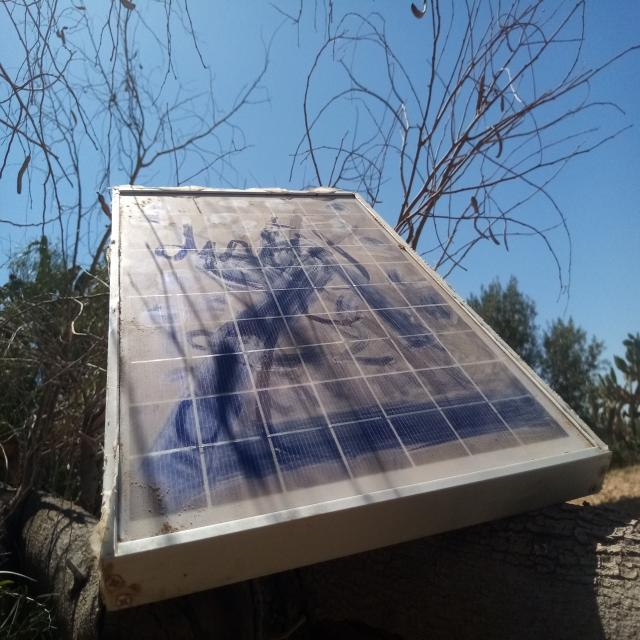faulty: (105, 186, 607, 551)
